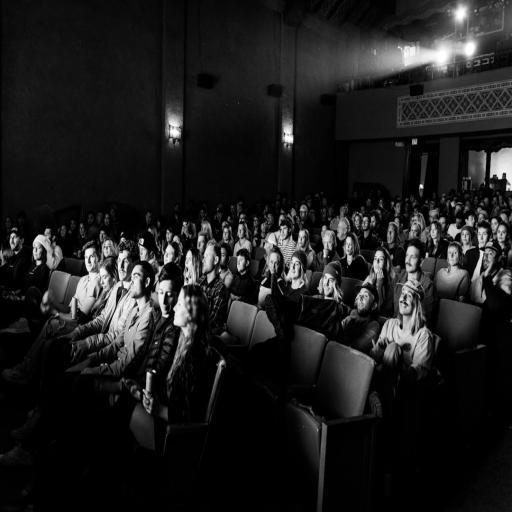face: (158, 279, 178, 318), (173, 289, 191, 328), (355, 288, 375, 316), (130, 264, 146, 298), (481, 243, 498, 273), (118, 250, 133, 282), (202, 246, 218, 276), (399, 287, 414, 316), (406, 246, 422, 273), (100, 268, 115, 292), (84, 248, 99, 272), (137, 240, 153, 262), (322, 273, 336, 298), (182, 248, 194, 276), (448, 241, 460, 268), (9, 232, 23, 252), (268, 252, 280, 274), (290, 256, 302, 278), (373, 250, 386, 270), (32, 242, 44, 262), (164, 244, 176, 264), (477, 228, 489, 248), (323, 232, 335, 252), (236, 255, 248, 274), (387, 222, 397, 244), (103, 239, 115, 257), (497, 225, 508, 244), (337, 215, 346, 238), (344, 237, 354, 256), (236, 223, 246, 242), (197, 236, 206, 254), (410, 221, 419, 238), (298, 230, 306, 249), (164, 225, 172, 244), (461, 230, 471, 245), (362, 214, 370, 232), (430, 222, 438, 240), (260, 218, 269, 233), (77, 222, 86, 237), (222, 226, 230, 241), (467, 213, 475, 228), (281, 223, 288, 240), (252, 214, 259, 228), (300, 205, 306, 220), (104, 212, 110, 226), (59, 223, 65, 235)
